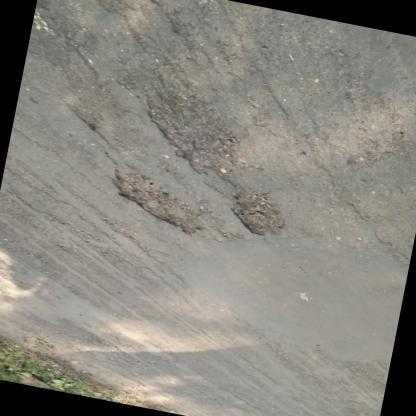pothole: (133, 83, 251, 180), (102, 167, 214, 240), (224, 184, 292, 242)
